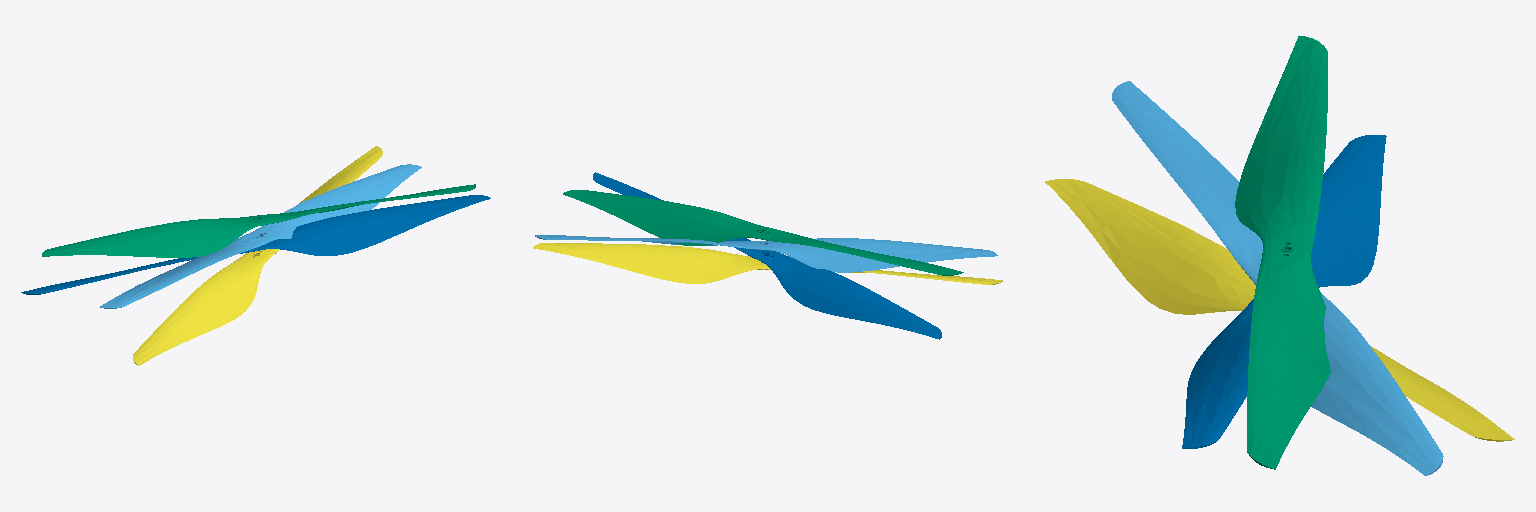
The robot description file, URDF, robot "aerial":
<?xml version="1.0" ?>
<robot name="aerial">
  <joint name="aerial__backleftlink" type="revolute">
    <parent link="aerial__quadcore"/>
    <child link="aerial__backleft"/>
    <origin xyz="-0.33016  0.33017  0.06706" rpy="0 0 0"/>
    <axis xyz="0.06162 -0.06162  0.99619"/>
    <limit lower="-1e+16" upper="1e+16" effort="0.0" velocity="0.0"/>
  </joint>
  <joint name="aerial__backrightlink" type="revolute">
    <parent link="aerial__quadcore"/>
    <child link="aerial__backright"/>
    <origin xyz="-0.33128 -0.33128  0.04912" rpy="0 0 0"/>
    <axis xyz="0.06162 0.06162 0.99619"/>
    <limit lower="-1e+16" upper="1e+16" effort="0.0" velocity="0.0"/>
  </joint>
  <joint name="aerial__frontleftlink" type="revolute">
    <parent link="aerial__quadcore"/>
    <child link="aerial__frontleft"/>
    <origin xyz="0.32872 0.32872 0.09043" rpy="0 0 0"/>
    <axis xyz="-0.06162 -0.06162  0.99619"/>
    <limit lower="-1e+16" upper="1e+16" effort="0.0" velocity="0.0"/>
  </joint>
  <joint name="aerial__frontrightlink" type="revolute">
    <parent link="aerial__quadcore"/>
    <child link="aerial__frontright"/>
    <origin xyz="0.32947 -0.32948  0.07832" rpy="0 0 0"/>
    <axis xyz="-0.06162  0.06162  0.99619"/>
    <limit lower="-1e+16" upper="1e+16" effort="0.0" velocity="0.0"/>
  </joint>
  <joint name="aerial__aerial/ground_truth/odometry_sensorgt_joint" type="fixed">
    <parent link="aerial__quadcore"/>
    <child link="aerial__aerial/ground_truth/odometry_sensorgt_link"/>
    <origin xyz="0 0 0" rpy="0 0 0"/>
    <axis xyz="0 0 1"/>
    <limit lower="0.0" upper="0.0" effort="0.0" velocity="0.0"/>
  </joint>
  <joint name="aerial__aerial/imu_joint" type="fixed">
    <parent link="aerial__quadcore"/>
    <child link="aerial__aerial/imu_link"/>
    <origin xyz="0 0 0" rpy="0 0 0"/>
    <axis xyz="0 0 1"/>
    <limit lower="0.0" upper="0.0" effort="0.0" velocity="0.0"/>
  </joint>
  <link name="aerial__quadcore">
    <inertial>
      <mass value="5.2815"/>
      <origin xyz="0.00957 -0.00334 -0.02528" rpy="0 0 0"/>
      <inertia ixx="0.022733" ixy="-3.0215e-05" ixz="2.666e-05" iyy="0.022153" iyz="-5.9394e-05" izz="0.034666"/>
    </inertial>
    <collision name="aerial__quadcore_collision">
      <origin xyz="0 0 0" rpy="0 0 0"/>
      <geometry>
        <mesh filename="package://aerial/models/aerial/meshes/quadcore.STL" scale="1 1 1"/>
      </geometry>
    </collision>
    <visual name="aerial__quadcore_visual">
      <origin xyz="0 0 0" rpy="0 0 0"/>
      <geometry>
        <mesh filename="package://aerial/models/aerial/meshes/quadcore.STL" scale="1 1 1"/>
      </geometry>
    </visual>
  </link>
  <link name="aerial__backleft">
    <inertial>
      <mass value="0.096653"/>
      <origin xyz="0.00231 -0.00231  0.03734" rpy="0 0 0"/>
      <inertia ixx="0.00015919" ixy="0.0" ixz="0" iyy="0.0012924" iyz="0" izz="0.0014435"/>
    </inertial>
    <collision name="aerial__backleft_collision">
      <origin xyz="0.33016 -0.33017 -0.06706" rpy="0 0 0"/>
      <geometry>
        <mesh filename="package://aerial/models/aerial/meshes/backleft.STL" scale="1 1 1"/>
      </geometry>
    </collision>
    <visual name="aerial__backleft_visual">
      <origin xyz="0.33016 -0.33017 -0.06706" rpy="0 0 0"/>
      <geometry>
        <mesh filename="package://aerial/models/aerial/meshes/backleft.STL" scale="1 1 1"/>
      </geometry>
    </visual>
  </link>
  <link name="aerial__backright">
    <inertial>
      <mass value="0.096765"/>
      <origin xyz="0.00342 0.00342 0.05538" rpy="0 0 0"/>
      <inertia ixx="1.9104e-05" ixy="0" ixz="0" iyy="0.0014366" iyz="0" izz="0.0014414"/>
    </inertial>
    <collision name="aerial__backright_collision">
      <origin xyz="0.33128  0.33128 -0.04912" rpy="0 0 0"/>
      <geometry>
        <mesh filename="package://aerial/models/aerial/meshes/backright.STL" scale="1 1 1"/>
      </geometry>
    </collision>
    <visual name="aerial__backright_visual">
      <origin xyz="0.33128  0.33128 -0.04912" rpy="0 0 0"/>
      <geometry>
        <mesh filename="package://aerial/models/aerial/meshes/backright.STL" scale="1 1 1"/>
      </geometry>
    </visual>
  </link>
  <link name="aerial__frontleft">
    <inertial>
      <mass value="0.096713"/>
      <origin xyz="-0.00086 -0.00086  0.01397" rpy="0 0 0"/>
      <inertia ixx="0.00041278" ixy="0" ixz="0" iyy="0.0010477" iyz="0" izz="0.0014362"/>
    </inertial>
    <collision name="aerial__frontleft_collision">
      <origin xyz="-0.32872 -0.32872 -0.09043" rpy="0 0 0"/>
      <geometry>
        <mesh filename="package://aerial/models/aerial/meshes/frontleft.STL" scale="1 1 1"/>
      </geometry>
    </collision>
    <visual name="aerial__frontleft_visual">
      <origin xyz="-0.32872 -0.32872 -0.09043" rpy="0 0 0"/>
      <geometry>
        <mesh filename="package://aerial/models/aerial/meshes/frontleft.STL" scale="1 1 1"/>
      </geometry>
    </visual>
  </link>
  <link name="aerial__frontright">
    <inertial>
      <mass value="0.096663"/>
      <origin xyz="-0.00162  0.00162  0.02619" rpy="0 0 0"/>
      <inertia ixx="9.7821e-05" ixy="0" ixz="0" iyy="0.0013595" iyz="0" izz="0.0014378"/>
    </inertial>
    <collision name="aerial__frontright_collision">
      <origin xyz="-0.32947  0.32948 -0.07832" rpy="0 0 0"/>
      <geometry>
        <mesh filename="package://aerial/models/aerial/meshes/frontright.STL" scale="1 1 1"/>
      </geometry>
    </collision>
    <visual name="aerial__frontright_visual">
      <origin xyz="-0.32947  0.32948 -0.07832" rpy="0 0 0"/>
      <geometry>
        <mesh filename="package://aerial/models/aerial/meshes/frontright.STL" scale="1 1 1"/>
      </geometry>
    </visual>
  </link>
  <link name="aerial__aerial/ground_truth/odometry_sensorgt_link">
    <inertial>
      <mass value="0.15"/>
      <origin xyz="0 0 0" rpy="0 0 0"/>
      <inertia ixx="0.0001" ixy="0" ixz="0" iyy="0.0002" iyz="0" izz="0.0002"/>
    </inertial>
  </link>
  <link name="aerial__aerial/imu_link">
    <inertial>
      <mass value="0.15"/>
      <origin xyz="0 0 0" rpy="0 0 0"/>
      <inertia ixx="0.00001" ixy="0" ixz="0" iyy="0.00002" iyz="0" izz="0.00002"/>
    </inertial>
  </link>
</robot>

--- Render facts (derived) ---
The picture shows the robot from 3 angles, left to right: view 1: azimuth 30°, elevation 25°; view 2: azimuth 150°, elevation 25°; view 3: azimuth 270°, elevation 25°; orthographic projection.
Model aerial with 7 links and 6 joints (4 revolute, 2 fixed), rooted at aerial__quadcore, posed every joint at zero.
Links seen in each view (by area): view 1: aerial__frontleft, aerial__frontright, aerial__backright, aerial__backleft; view 2: aerial__backright, aerial__frontright, aerial__frontleft, aerial__backleft; view 3: aerial__backright, aerial__backleft, aerial__frontleft, aerial__frontright.
Link boxes in pixels (left/top/right/bottom): aerial__frontleft: left=133, top=146, right=382, bottom=365; aerial__frontright: left=21, top=195, right=490, bottom=294; aerial__backright: left=42, top=184, right=475, bottom=257; aerial__backleft: left=100, top=164, right=421, bottom=308; aerial__backright: left=563, top=190, right=963, bottom=275; aerial__frontright: left=593, top=172, right=941, bottom=339; aerial__frontleft: left=533, top=243, right=1002, bottom=284; aerial__backleft: left=535, top=235, right=997, bottom=272; aerial__backright: left=1235, top=36, right=1330, bottom=469; aerial__backleft: left=1112, top=81, right=1443, bottom=475; aerial__frontleft: left=1045, top=179, right=1514, bottom=441; aerial__frontright: left=1182, top=135, right=1386, bottom=448.
Size in the robot's own frame: 0.5581 by 0.2888 by 0.0852 metres.
4 mesh visuals loaded from 5 distinct referenced files (4 binary STL); not drawn: 1 (reference not matched to a file when rendering).